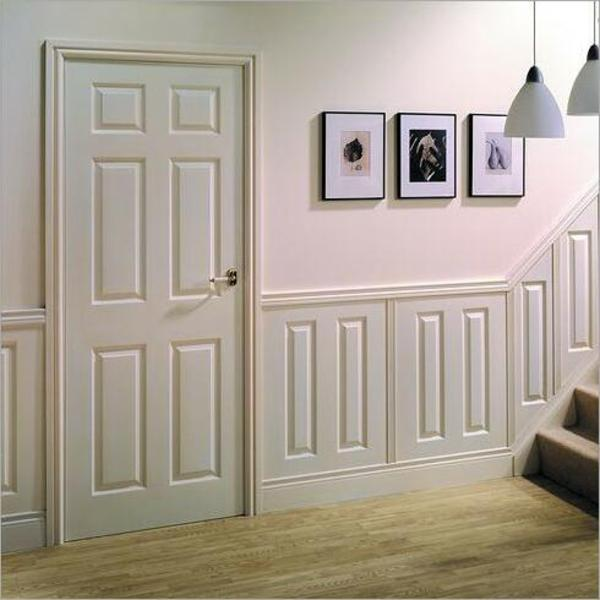door: (62, 57, 241, 522)
